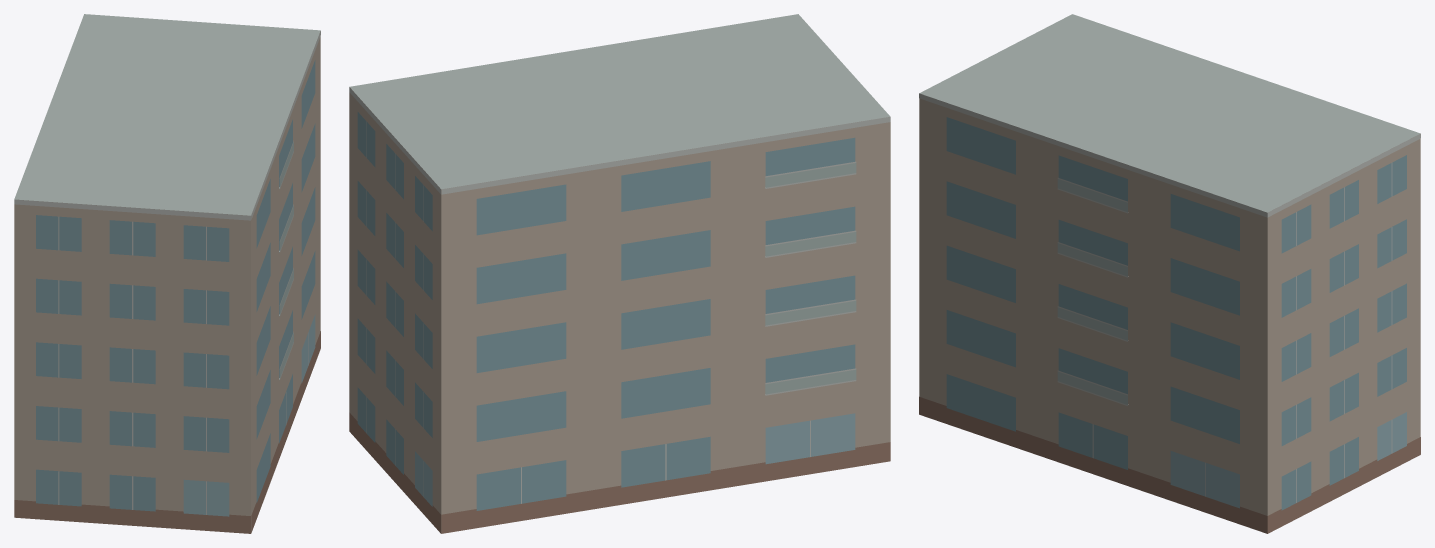
File: survey-upis-32754408.glb
3 renders of one model, left to right at view 1: azimuth 30°, elevation 25°; view 2: azimuth 150°, elevation 25°; view 3: azimuth 270°, elevation 25°, orthographic. The views are drawn at different scales.
Visible parts, largest first — view 1: survey-upis-32754408.tmp; view 2: survey-upis-32754408.tmp; view 3: survey-upis-32754408.tmp.
Boxes of the visible parts, bbox=[...] form: survey-upis-32754408.tmp: bbox=[14, 14, 320, 533]; survey-upis-32754408.tmp: bbox=[349, 14, 890, 533]; survey-upis-32754408.tmp: bbox=[919, 14, 1420, 533].
Bounding box in the file's own units: 20.83 × 15.7 × 22.22.
